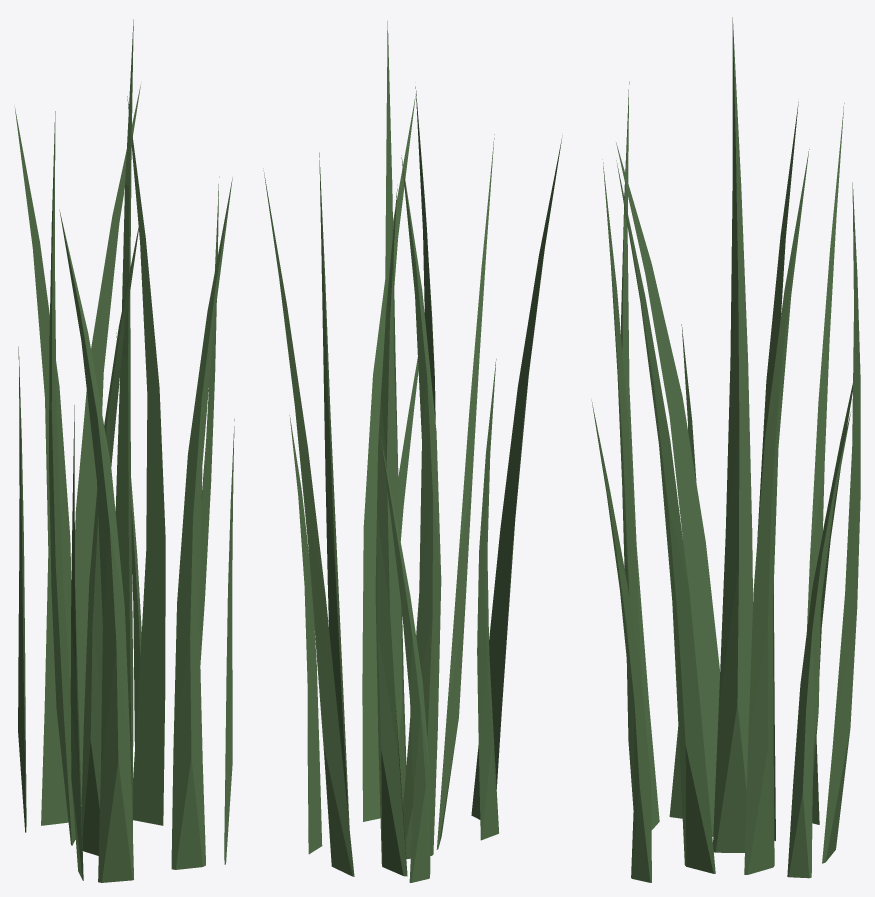
The model's file is Long_Grass.fbx.
3 views of the same model, side by side, from view 1: azimuth 30°, elevation 25°; view 2: azimuth 150°, elevation 25°; view 3: azimuth 270°, elevation 25° (orthographic). The views are drawn at different scales.
Parts seen in each view (by area): view 1: Long_Grass_LOD_0; view 2: Long_Grass_LOD_0; view 3: Long_Grass_LOD_0.
Part boxes in pixels (x1,y1,x2,y2): Long_Grass_LOD_0: [14, 19, 234, 882]; Long_Grass_LOD_0: [263, 21, 562, 882]; Long_Grass_LOD_0: [591, 17, 860, 882].
Size of what is drawn, in the model's own units: 33.17 by 136 by 39.53.
